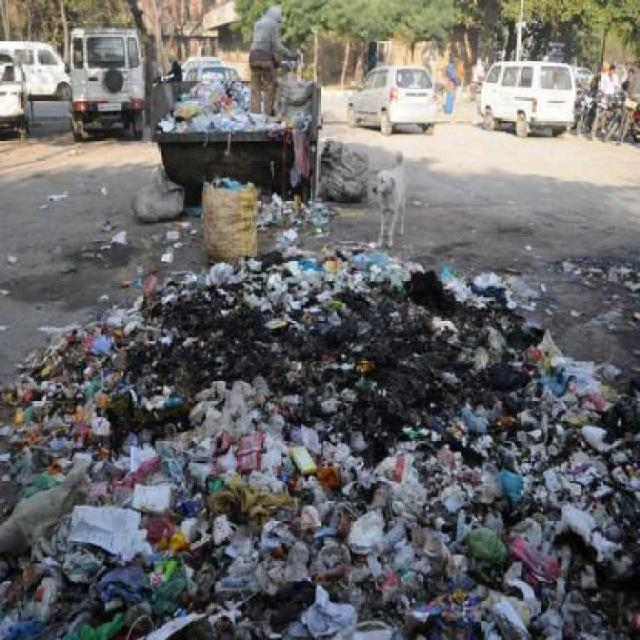garbage: (4, 249, 640, 639), (126, 165, 369, 266), (156, 82, 277, 155), (285, 71, 310, 186), (317, 130, 374, 166), (36, 186, 83, 214), (93, 216, 130, 249), (94, 183, 111, 198)
